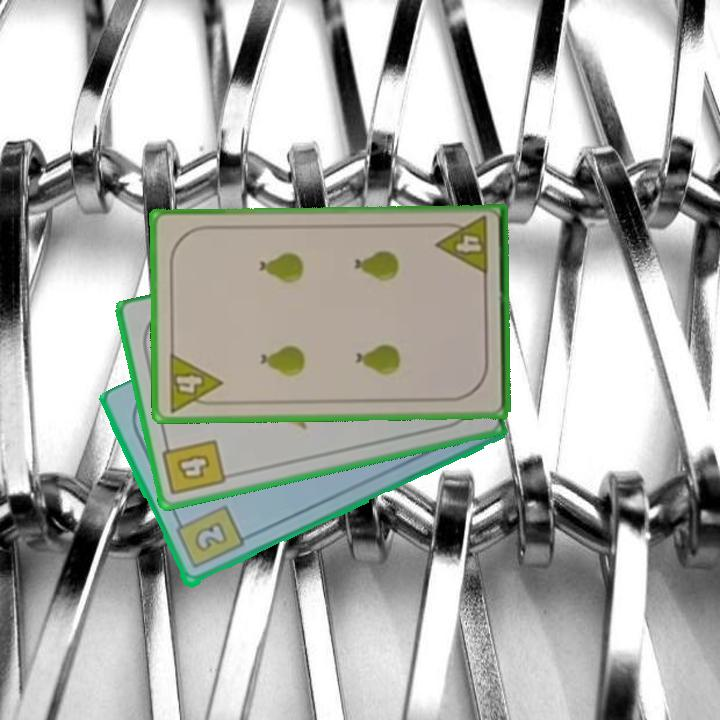2b: (171, 502, 247, 572)
4b: (159, 435, 228, 499)
4p: (164, 350, 225, 415), (433, 213, 491, 278)
